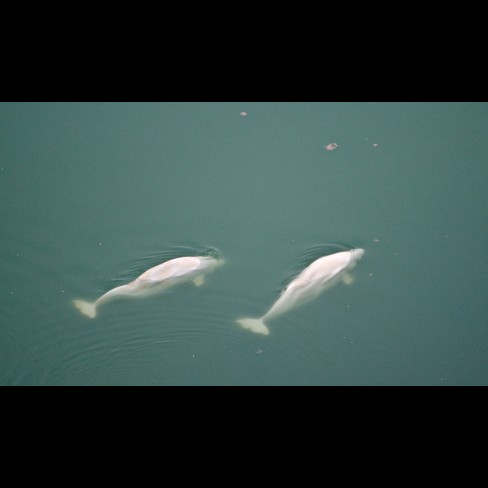beluga: (236, 240, 370, 340), (70, 246, 227, 324)
